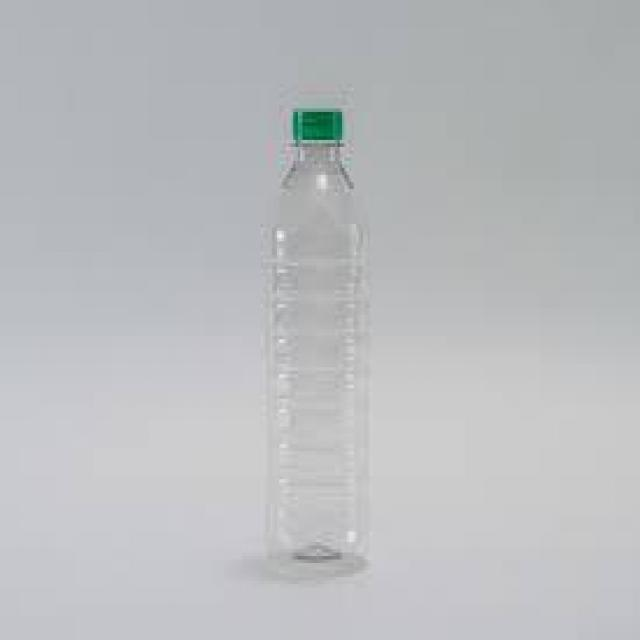bottle: (262, 104, 378, 582)
